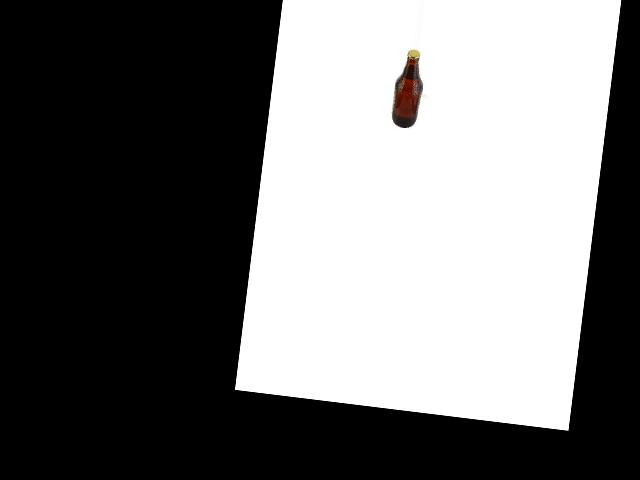beer: (391, 48, 425, 128)
